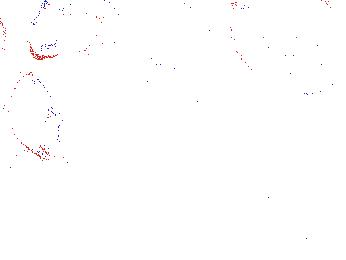moon jellyfish: (229, 1, 346, 95), (28, 1, 121, 61), (104, 1, 210, 51), (8, 72, 64, 162)
